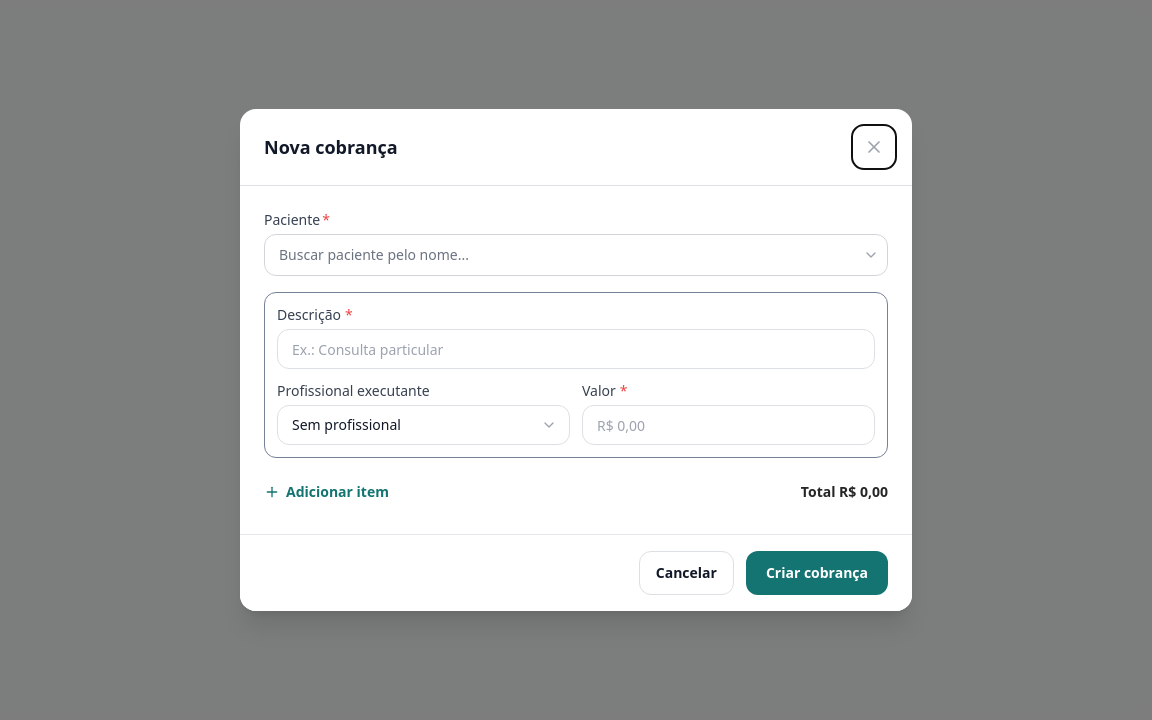
Test: NewReceivableModal › não cria sem paciente nem valor
The width and height of the screenshot is (1152, 720).
What coordinates should you click on to do the following:
click the button "Criar cobrança"
I would click on:
 (817, 573)
Its box is [746,551,888,595].
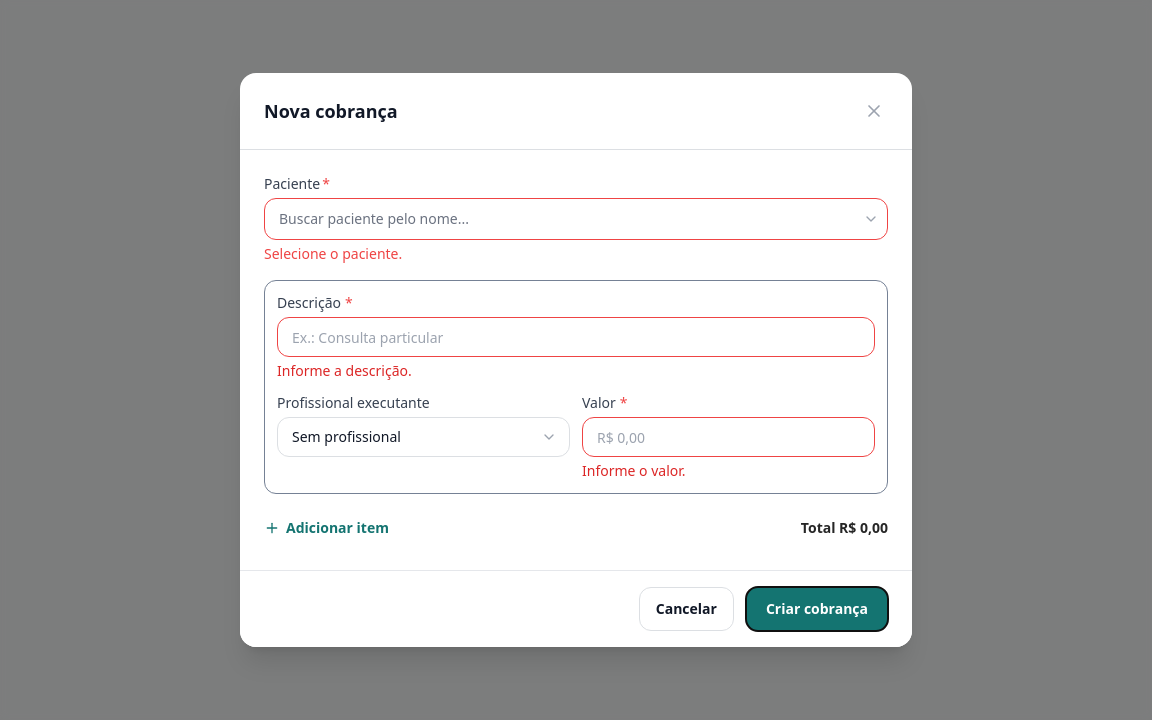
Expected: the text "Selecione o paciente." is shown, [264,244,402,263]
Expected: the text "Informe o valor." is shown, [582,461,686,480]
